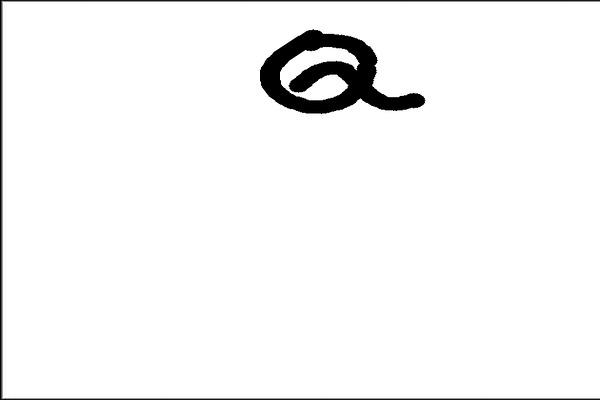Q: (254, 20, 424, 122)
